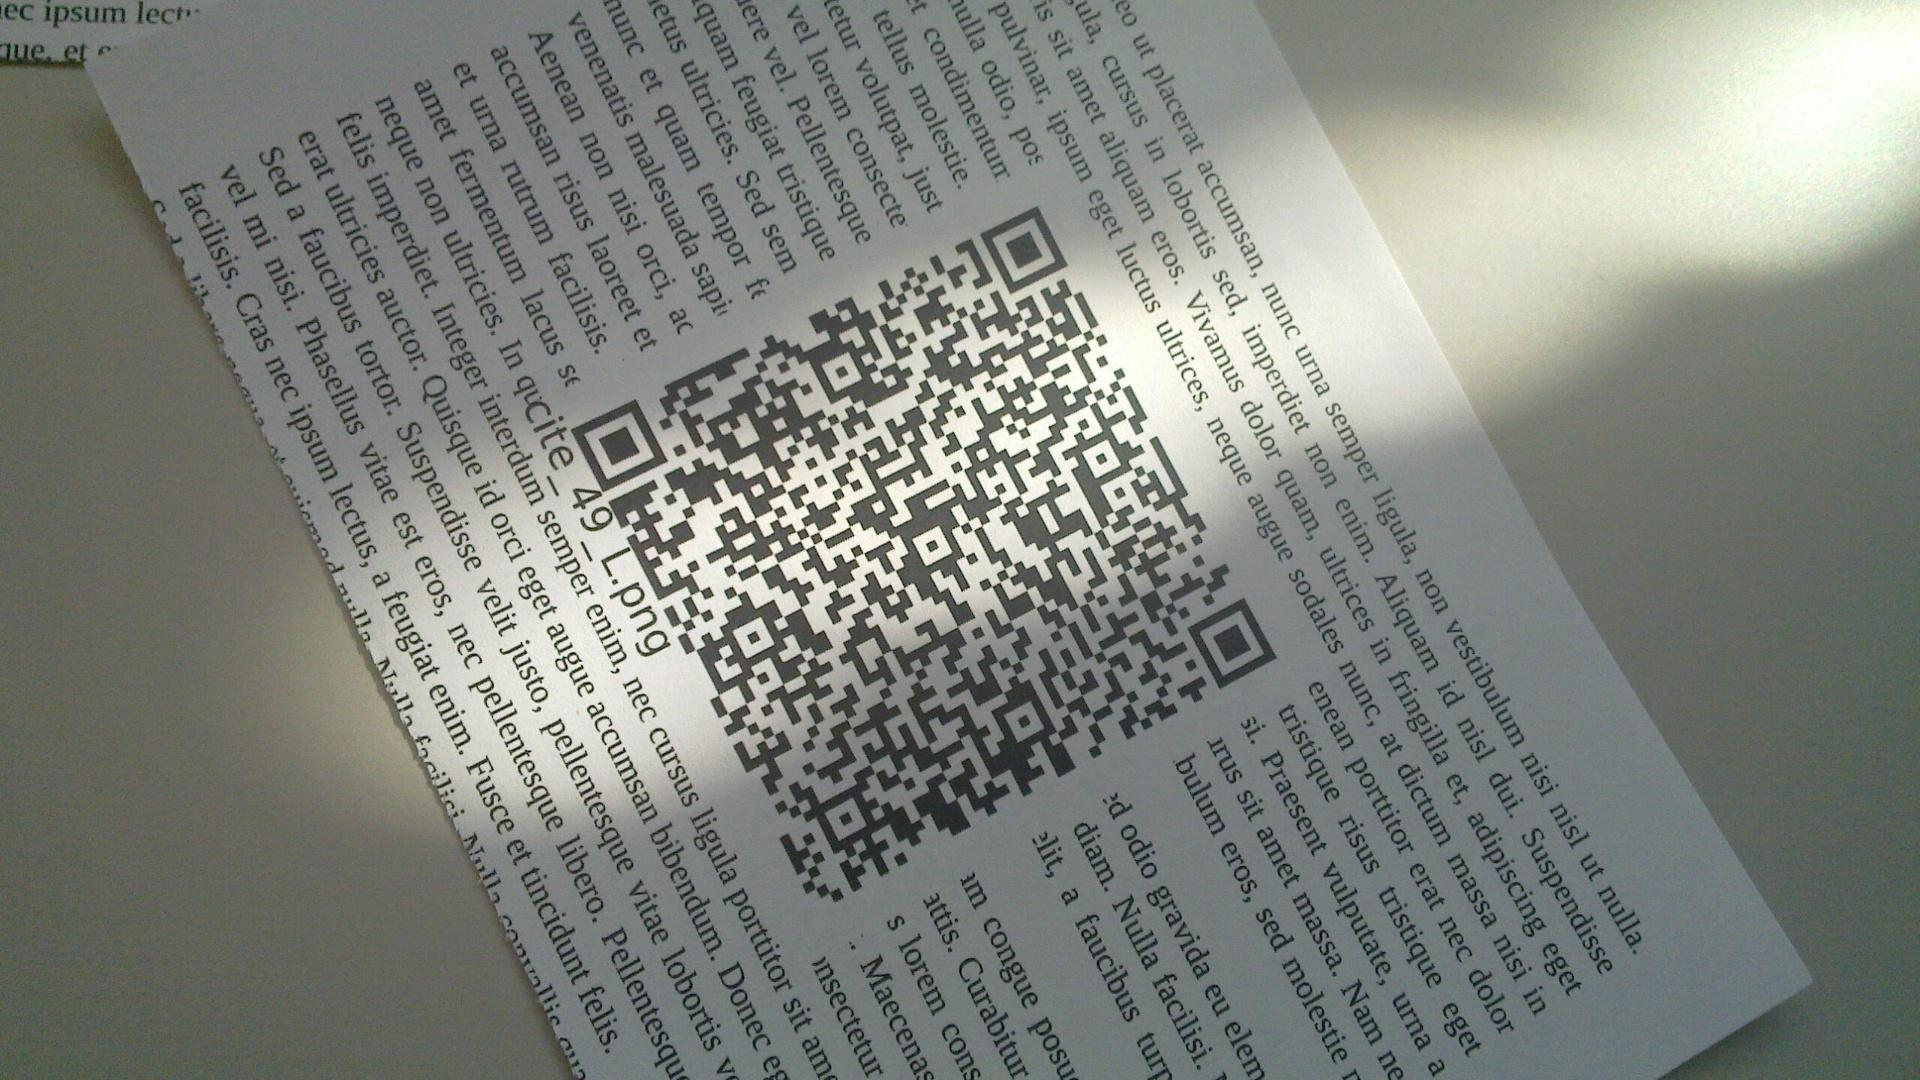Finder pattern: (1185, 596, 1280, 687), (568, 404, 669, 489), (978, 204, 1068, 286)
